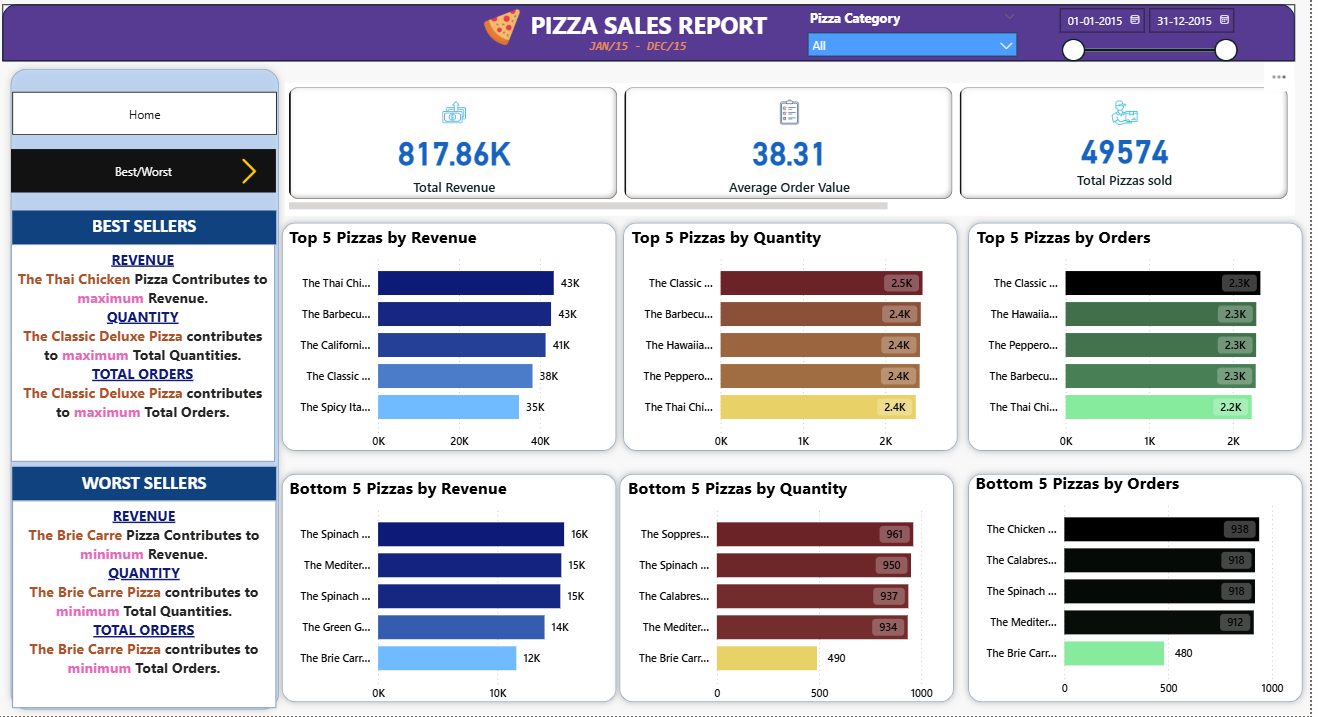

The page's visual inventory and layout, read from the dashboard file:
{"tool":"powerbi","page":{"name":"Best/Worst","canvas":[1500,820],"ordinal":1},"visuals":[{"type":"cardVisual","fields":{"Data":["pizza_sales.Total Revenue","pizza_sales.Average Order Value","pizza_sales.Total Pizzas sold","pizza_sales.Total Orders","pizza_sales.Average Pizzas per order"]},"box":[338.6,102,1144.7,150.2],"z":0},{"type":"shape","box":[18.4,12.8,1464.9,65.2],"z":1000},{"type":"textbox","box":[612,12.8,279.1,49.6],"z":2000},{"type":"textbox","box":[678.6,45.3,148.8,32.6],"z":3000},{"type":"image","box":[541.2,12.8,87.8,52.4],"z":4000},{"type":"shape","box":[327.3,252.2,395.3,274.8],"z":5000},{"type":"shape","box":[19.8,77.9,320.2,742.4],"z":6000},{"type":"textbox","box":[29.8,246.5,298.9,38.3],"z":7000},{"type":"textbox","box":[28.3,284.8,298.9,246.5],"z":8000},{"type":"textbox","box":[30.4,536.4,298.9,38.3],"z":9000},{"type":"textbox","box":[30.4,574.7,298.9,235.2],"z":10000},{"type":"slicer","fields":{"Values":["pizza_sales.pizza_category"]},"box":[920.9,12.8,257.8,65.2],"z":11000},{"type":"slicer","fields":{"Values":["pizza_sales.order_date"]},"box":[1204.2,7.1,222.4,77.9],"z":12000},{"type":"shape","box":[1105.1,252.2,395.3,274.8],"z":13000},{"type":"shape","box":[714,252.2,395.3,274.8],"z":14000},{"type":"shape","box":[327.3,536.9,395.3,274.8],"z":15000},{"type":"shape","box":[709.8,536.9,395.3,274.8],"z":16000},{"type":"shape","box":[1105.1,536.9,395.3,274.8],"z":17000},{"type":"barChart","title":"Top 5 Pizzas by Revenue","fields":{"Category":["pizza_sales.pizza_name"],"Y":["pizza_sales.Total Revenue"]},"box":[338.6,263.5,371.2,263.5],"z":18000},{"type":"barChart","title":"Bottom 5 Pizzas by Revenue","fields":{"Category":["pizza_sales.pizza_name"],"Y":["pizza_sales.Total Revenue"]},"box":[338.6,548.3,371.2,263.5],"z":19000},{"type":"barChart","title":"Top 5 Pizzas by Quantity","fields":{"Category":["pizza_sales.pizza_name"],"Y":["pizza_sales.Total Pizzas sold"]},"box":[726.8,263.5,371.2,263.5],"z":20000},{"type":"barChart","title":"Bottom 5 Pizzas by Quantity","fields":{"Category":["pizza_sales.pizza_name"],"Y":["pizza_sales.Total Pizzas sold"]},"box":[722.5,548.3,371.2,263.5],"z":21000},{"type":"barChart","title":"Top 5 Pizzas by Orders","fields":{"Category":["pizza_sales.pizza_name"],"Y":["pizza_sales.Total Orders"]},"box":[1117.8,263.5,371.2,263.5],"z":22000},{"type":"barChart","title":"Bottom 5 Pizzas by Orders","fields":{"Category":["pizza_sales.pizza_name"],"Y":["pizza_sales.Total Orders"]},"box":[1116,541.9,371.5,263.7],"z":23000},{"type":"pageNavigator","box":[28.3,177.1,300.3,49.6],"z":24000},{"type":"pageNavigator","box":[29.8,111.9,300.3,49.6],"z":25000},{"type":"image","box":[279.1,182.8,38.3,38.3],"z":26000}]}

Visuals, with their boxes in screenshot pixels (x1, y1, x2, y2), scaled from the page's 1500x820 canvas onto the 1335x717 screenshot:
cardVisual - pizza_sales.Total Revenue x pizza_sales.Average Order Value: 301 89 1320 221
shape: 16 11 1320 68
textbox: 545 11 793 55
textbox: 604 40 736 68
image: 482 11 560 57
shape: 291 221 643 461
shape: 18 68 303 716
textbox: 27 216 293 249
textbox: 25 249 291 465
textbox: 27 469 293 503
textbox: 27 503 293 708
slicer - pizza_sales.pizza_category: 820 11 1049 68
slicer - pizza_sales.order_date: 1072 6 1270 74
shape: 984 221 1334 461
shape: 635 221 987 461
shape: 291 469 643 710
shape: 632 469 984 710
shape: 984 469 1334 710
"Top 5 Pizzas by Revenue" barChart: 301 230 632 461
"Bottom 5 Pizzas by Revenue" barChart: 301 479 632 710
"Top 5 Pizzas by Quantity" barChart: 647 230 977 461
"Bottom 5 Pizzas by Quantity" barChart: 643 479 973 710
"Top 5 Pizzas by Orders" barChart: 995 230 1325 461
"Bottom 5 Pizzas by Orders" barChart: 993 474 1324 704
pageNavigator: 25 155 292 198
pageNavigator: 27 98 294 141
image: 248 160 282 193
